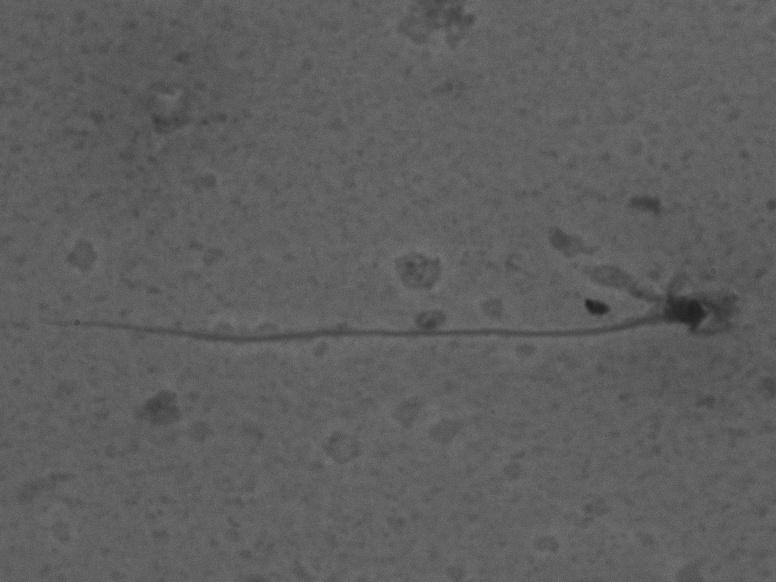Abnormal: (52, 252, 724, 414)
